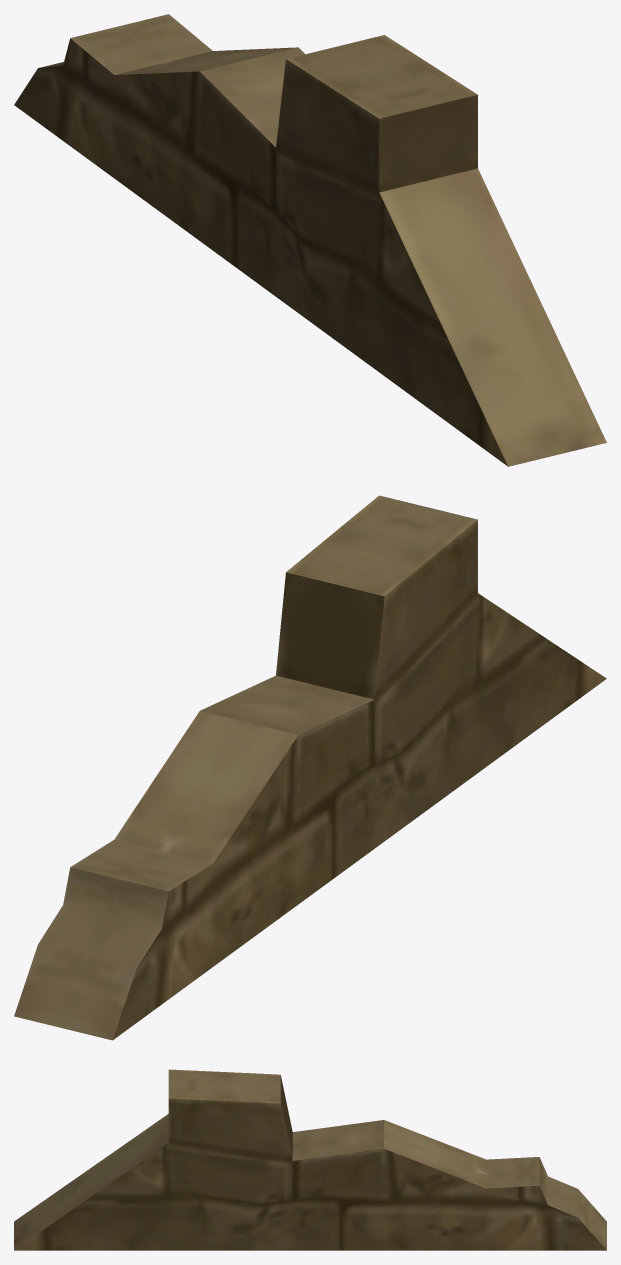
File: Battle04_Cub_05.FBX
3 renders of one model, top to bottom at view 1: azimuth 30°, elevation 25°; view 2: azimuth 150°, elevation 25°; view 3: azimuth 270°, elevation 25°, orthographic. The views are drawn at different scales.
Parts seen in each view (by area): view 1: Battle04_Cub_05; view 2: Battle04_Cub_05; view 3: Battle04_Cub_05.
Part boxes in pixels (x1,y1,x2,y2): Battle04_Cub_05: (14,14,606,466); Battle04_Cub_05: (14,495,606,1040); Battle04_Cub_05: (14,1069,606,1250).
Size of the model in its own units: 0.677 by 1.66 by 5.87.
